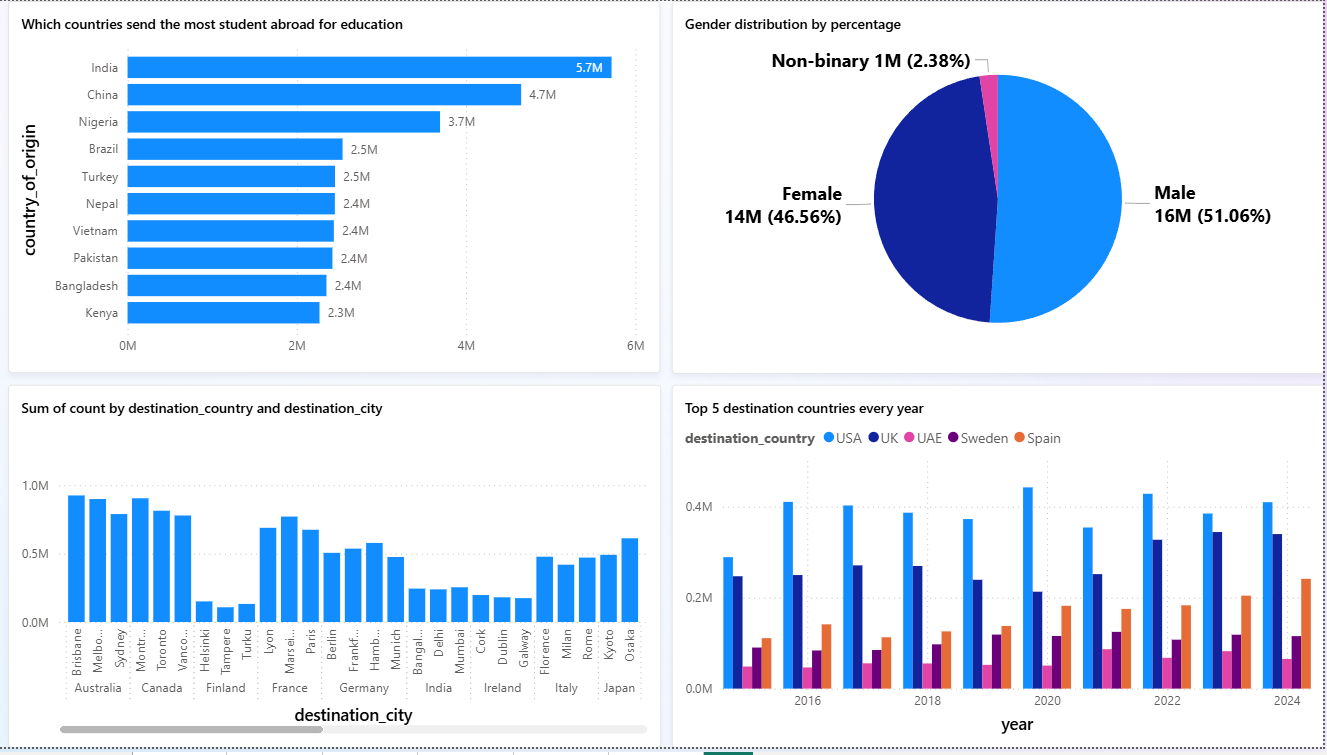

The dashboard page shown, as its layout file describes it:
{"tool":"powerbi","page":{"name":"Page 1","canvas":[1280,720],"ordinal":0},"visuals":[{"type":"barChart","title":"Which countries send the most student abroad for education","fields":{"Category":["International_Students_2015_2024_v2.country_of_origin"],"Y":["Sum(International_Students_2015_2024_v2.count)"]},"box":[9.6,0,629.8,359.5],"z":0},{"type":"clusteredColumnChart","fields":{"Category":["International_Students_2015_2024_v2.destination_country","International_Students_2015_2024_v2.destination_city"],"Y":["Sum(International_Students_2015_2024_v2.count)"]},"box":[10,370,630,350],"z":1000},{"type":"pieChart","title":"Gender distribution by percentage","fields":{"Category":["International_Students_2015_2024_v2.gender"],"Y":["Sum(International_Students_2015_2024_v2.count)"]},"box":[650,0,630,360],"z":2000},{"type":"clusteredColumnChart","title":"Top 5 destination countries every year","fields":{"Category":["International_Students_2015_2024_v2.year"],"Y":["Sum(International_Students_2015_2024_v2.count)"],"Series":["International_Students_2015_2024_v2.destination_country"]},"box":[650,370,630,350],"z":3000}]}

Visuals, with their boxes in screenshot pixels (x1, y1, x2, y2), scaled from the page's 1280x720 canvas onto the 1327x755 screenshot:
"Which countries send the most student abroad for education" barChart: 10/0/663/377
clusteredColumnChart - International_Students_2015_2024_v2.destination_country x International_Students_2015_2024_v2.destination_city: 10/388/664/754
"Gender distribution by percentage" pieChart: 674/0/1326/378
"Top 5 destination countries every year" clusteredColumnChart: 674/388/1326/754
